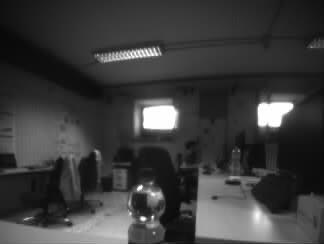Bottle: (128, 173, 165, 244), (231, 145, 240, 175)
